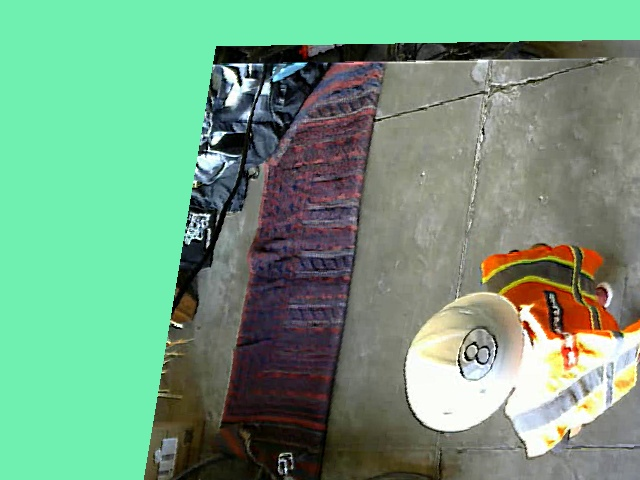eight: (452, 326, 500, 381)
